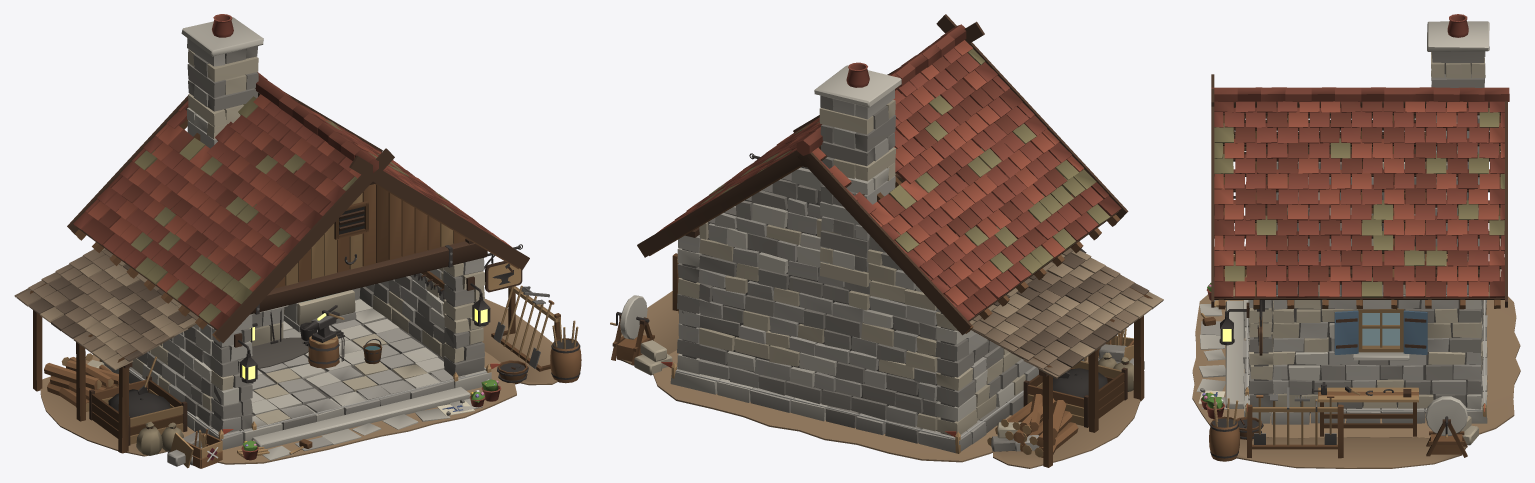
Rendered from forge.glb.
3 views of the same model, side by side, from view 1: azimuth 30°, elevation 25°; view 2: azimuth 150°, elevation 25°; view 3: azimuth 270°, elevation 25° (orthographic). The views are drawn at different scales.
Parts seen in each view (by area): view 1: stage_08_mesh, stage_13_mesh, stage_02_mesh, stage_07_mesh, stage_03_mesh, stage_04_mesh, stage_06_mesh, stage_14_mesh, stage_01_mesh, stage_15_mesh, stage_05_mesh, stage_11_mesh (+2 smaller); view 2: stage_08_mesh, stage_04_mesh, stage_13_mesh, stage_03_mesh, stage_06_mesh, stage_07_mesh, stage_02_mesh, stage_01_mesh, stage_14_mesh; view 3: stage_08_mesh, stage_14_mesh, stage_04_mesh, stage_03_mesh, stage_01_mesh, stage_02_mesh, stage_06_mesh, stage_07_mesh, stage_15_mesh.
Boxes of the visible parts, x1,y1,x2,y2 form: stage_08_mesh: (73, 72, 511, 330); stage_13_mesh: (14, 248, 198, 456); stage_02_mesh: (87, 298, 491, 460); stage_07_mesh: (67, 92, 529, 342); stage_03_mesh: (131, 275, 528, 466); stage_04_mesh: (169, 241, 487, 377); stage_06_mesh: (181, 14, 263, 148); stage_14_mesh: (482, 285, 581, 385); stage_01_mesh: (85, 351, 516, 464); stage_15_mesh: (170, 244, 522, 468); stage_05_mesh: (250, 305, 317, 369); stage_11_mesh: (283, 290, 382, 363); stage_08_mesh: (656, 24, 1121, 321); stage_04_mesh: (677, 166, 998, 377); stage_13_mesh: (969, 248, 1163, 468); stage_03_mesh: (677, 309, 1144, 436); stage_06_mesh: (814, 62, 901, 287); stage_07_mesh: (637, 14, 1128, 335); stage_02_mesh: (634, 340, 1084, 453); stage_01_mesh: (653, 350, 1088, 462); stage_14_mesh: (610, 253, 679, 365); stage_08_mesh: (1211, 87, 1509, 299); stage_14_mesh: (1209, 382, 1467, 468); stage_04_mesh: (1249, 115, 1483, 360); stage_03_mesh: (1236, 238, 1483, 439); stage_01_mesh: (1192, 274, 1520, 438); stage_02_mesh: (1196, 300, 1487, 445); stage_06_mesh: (1427, 14, 1489, 215); stage_07_mesh: (1211, 74, 1507, 309); stage_15_mesh: (1200, 196, 1264, 418).
Size of the model in its own units: 10.4 by 7.23 by 6.5.
